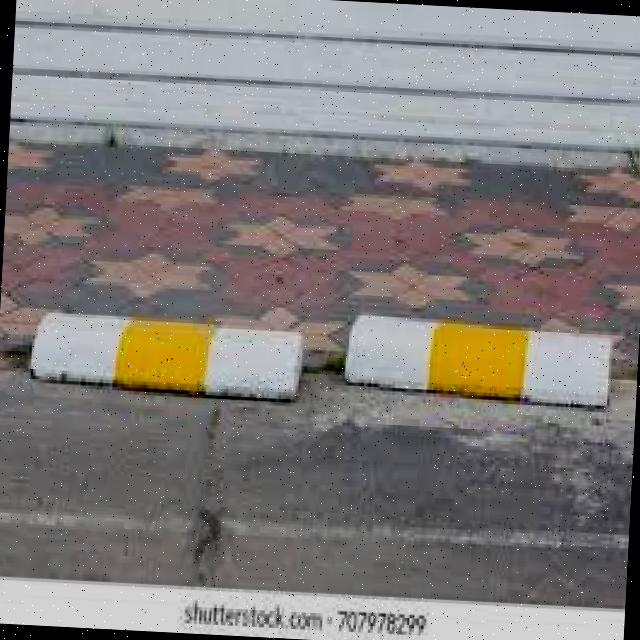curb: (30, 309, 609, 413)
